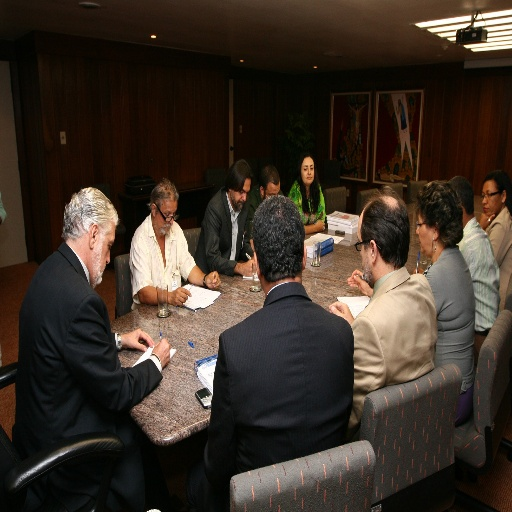hand: (125, 326, 155, 354), (326, 299, 354, 326), (150, 334, 171, 369), (346, 267, 372, 295), (171, 284, 190, 308), (203, 269, 222, 292), (241, 257, 257, 278), (478, 212, 496, 230), (315, 218, 324, 231), (411, 267, 424, 273)
